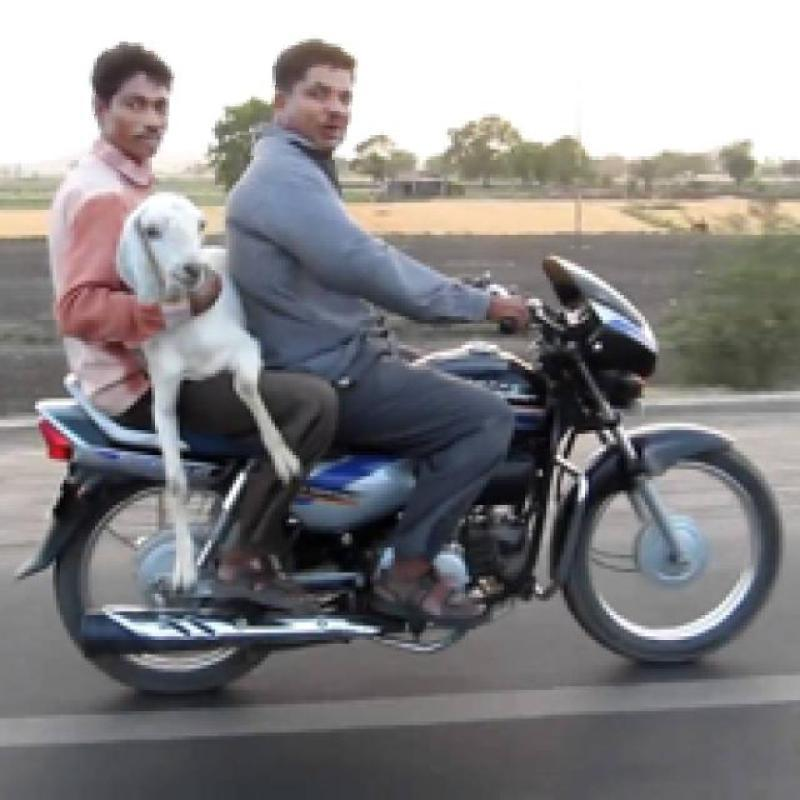nohelmet: (250, 29, 372, 160), (81, 36, 190, 174)
